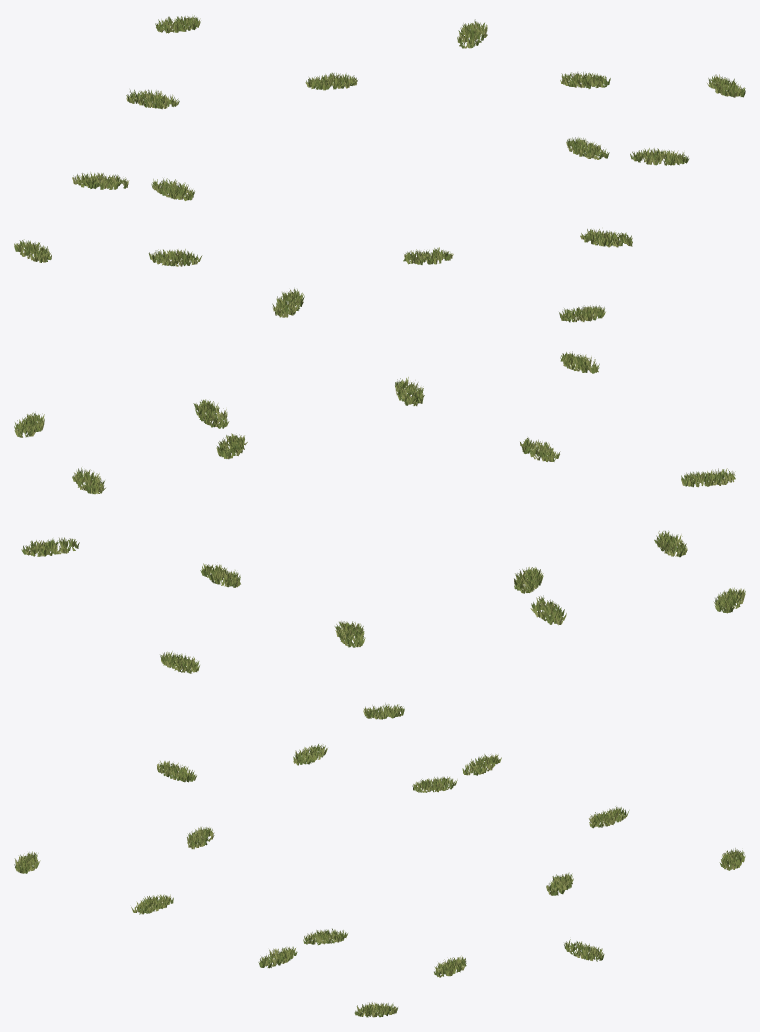
File: SM_R01_Bushes_NoCollision.fbx
The picture shows the model from 3 angles, top to bottom: view 1: azimuth 30°, elevation 25°; view 2: azimuth 150°, elevation 25°; view 3: azimuth 270°, elevation 25°; orthographic projection. The views are drawn at different scales.
Parts seen in each view (by area): view 1: SM_R01_Bushes_NoCollision; view 2: SM_R01_Bushes_NoCollision; view 3: SM_R01_Bushes_NoCollision.
Part boxes in pixels (x1=…): SM_R01_Bushes_NoCollision: x1=14, y1=15, x2=745, y2=322; SM_R01_Bushes_NoCollision: x1=14, y1=351, x2=745, y2=673; SM_R01_Bushes_NoCollision: x1=14, y1=703, x2=745, y2=1017.
Size of the model in its own units: 9308 by 9337 by 124.
